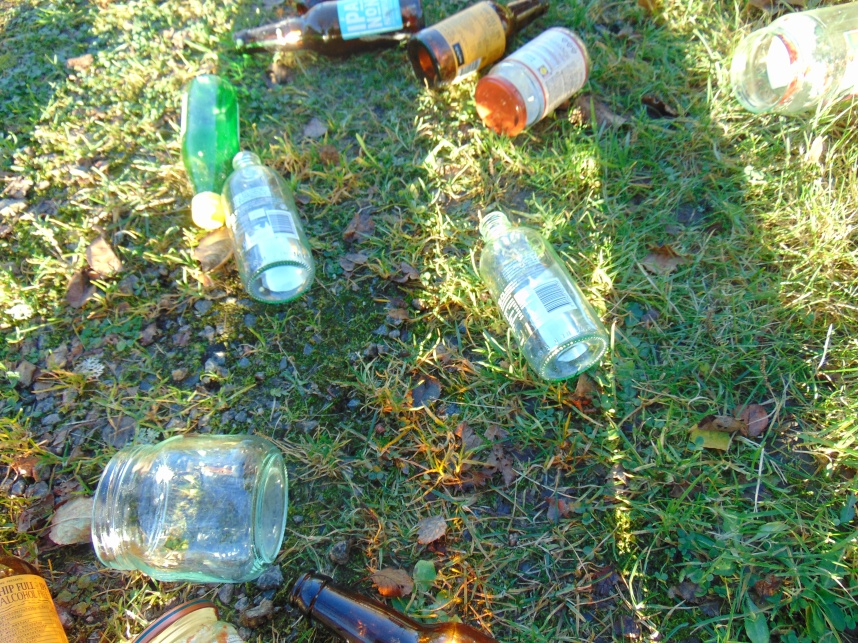glass_bottle: (92, 433, 287, 581), (477, 211, 607, 386), (283, 565, 510, 643), (217, 149, 316, 307), (731, 1, 858, 115), (408, 1, 550, 94), (477, 28, 592, 137), (234, 1, 423, 58), (181, 72, 240, 238), (1, 541, 70, 643), (145, 604, 246, 643)
